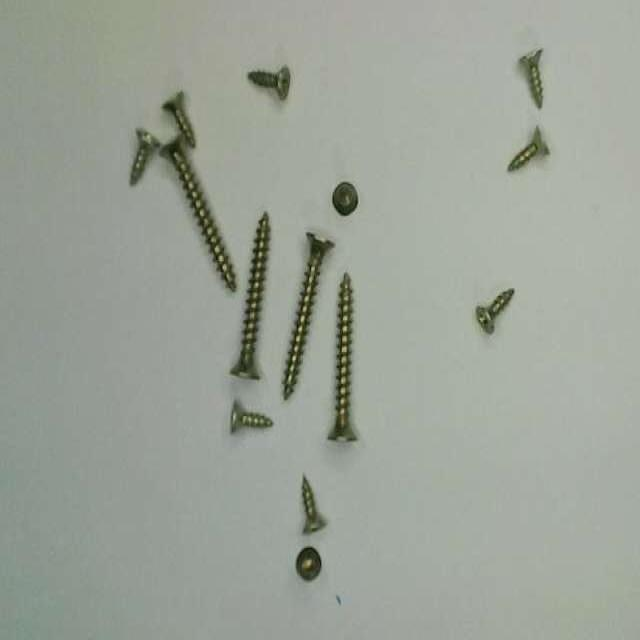Parafuso: (160, 136, 234, 291), (283, 233, 333, 399), (230, 212, 270, 379), (328, 272, 357, 441), (508, 127, 549, 171), (162, 92, 194, 147), (476, 289, 514, 333), (130, 129, 160, 184), (249, 65, 290, 99), (520, 49, 543, 108), (231, 400, 272, 432), (303, 475, 326, 531), (333, 183, 357, 215), (296, 547, 320, 579)
